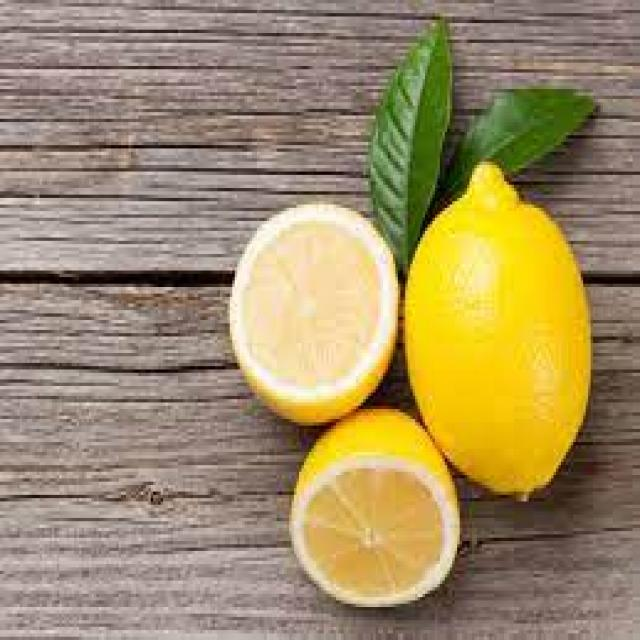lemon: (405, 162, 591, 500), (232, 204, 398, 425), (292, 409, 460, 608)
